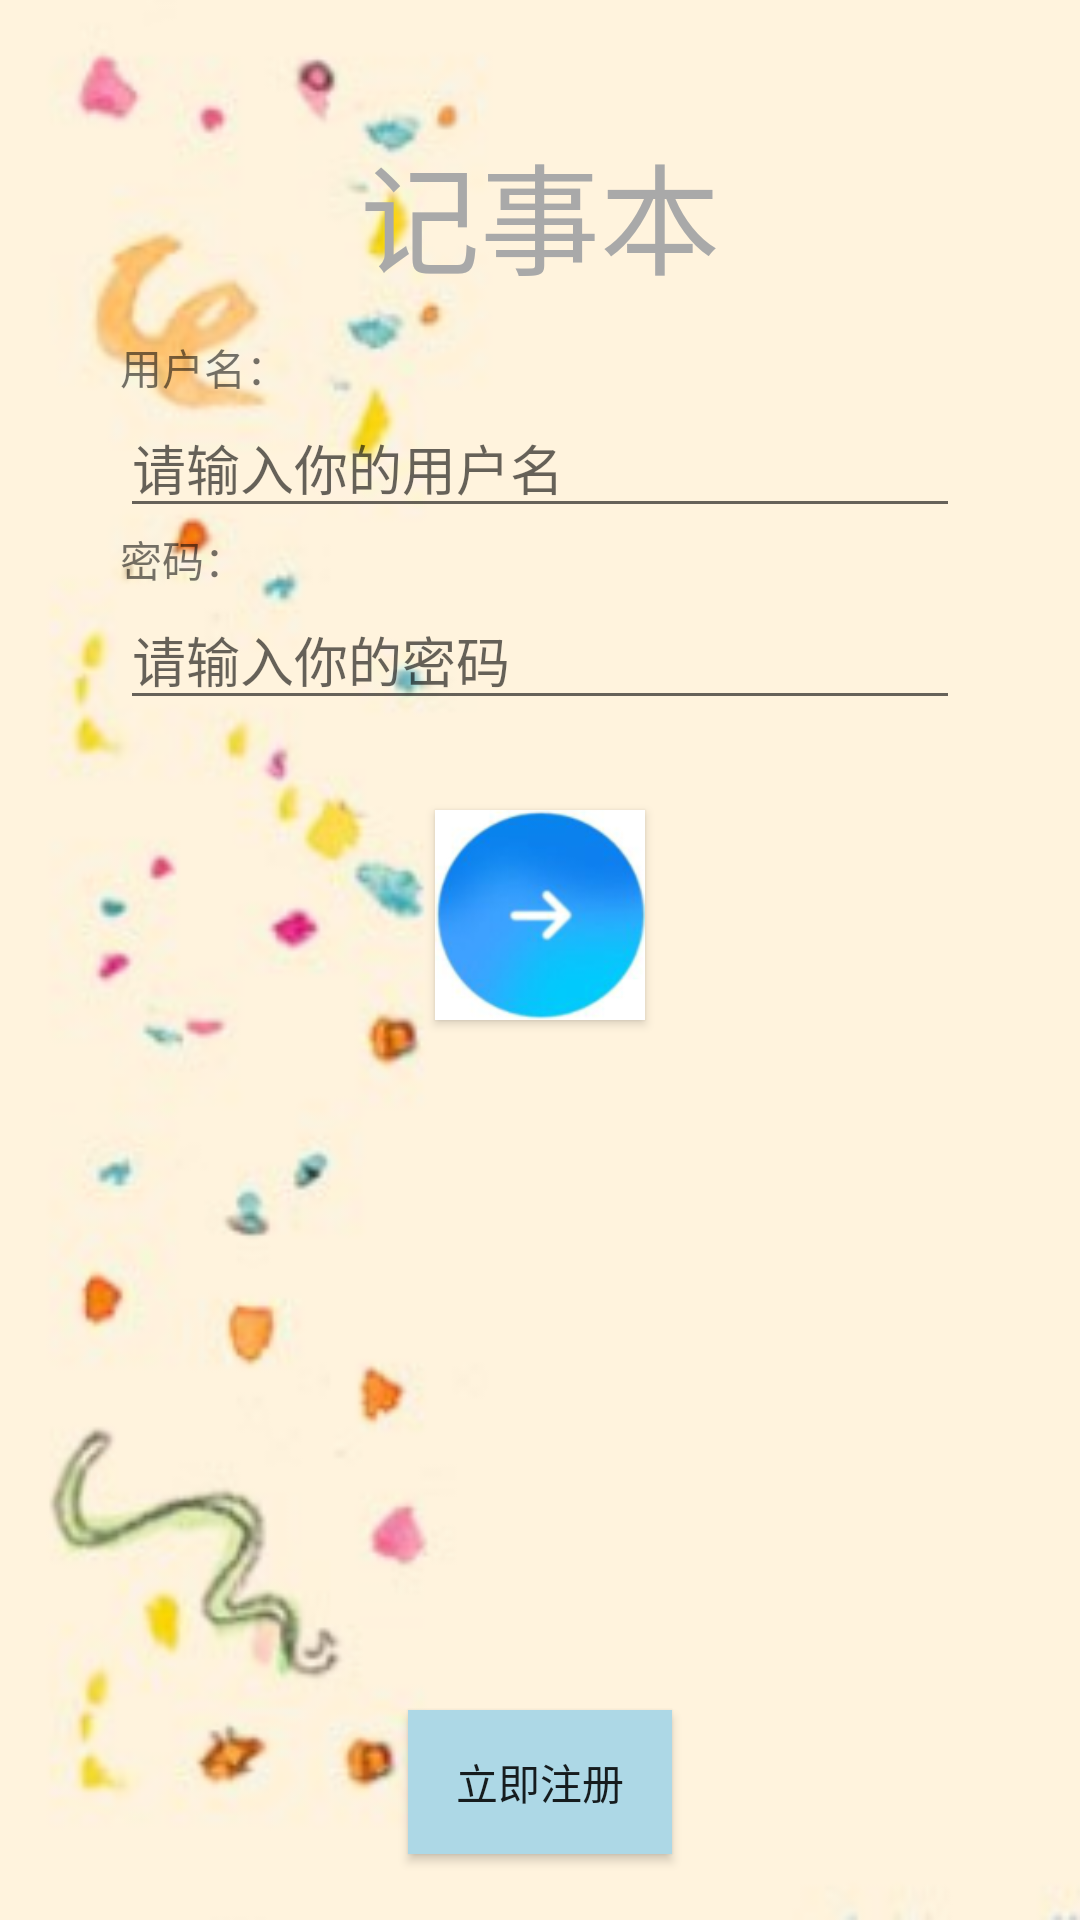

Locate icon controls on the screen. Image size 1080×1920, boxes as (x1, y1, x2, y2).
login: (435, 810, 645, 1020)
